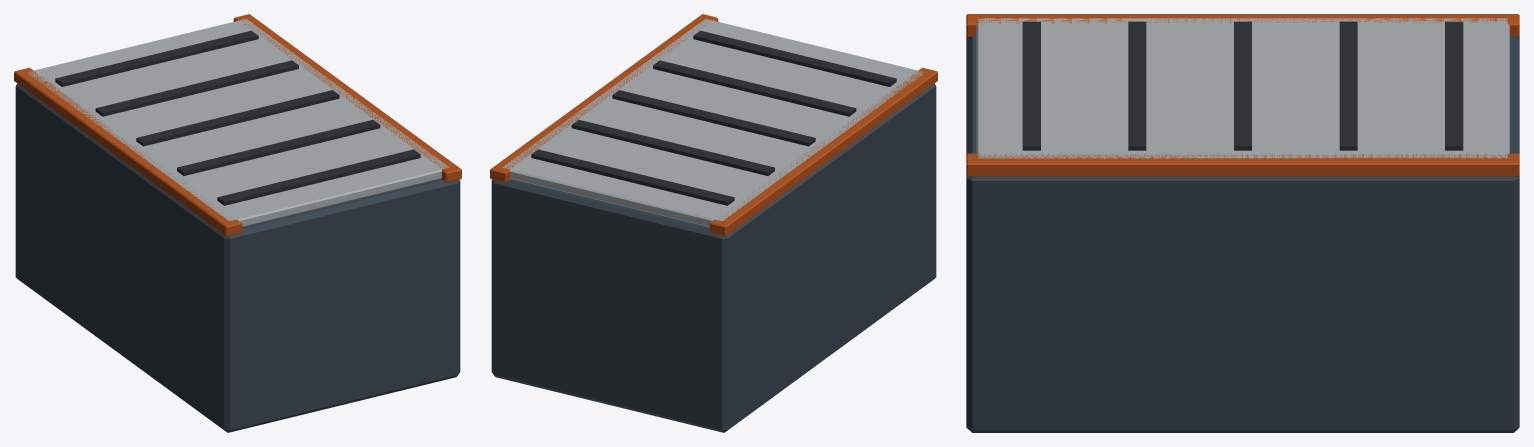
File: SC_STEP.glb
3 renders of one model, left to right at view 1: azimuth 30°, elevation 25°; view 2: azimuth 150°, elevation 25°; view 3: azimuth 270°, elevation 25°, orthographic. The views are drawn at different scales.
Parts seen in each view (by area): view 1: SC_STEP; view 2: SC_STEP; view 3: SC_STEP.
Boxes of the visible parts, x1=… form: SC_STEP: x1=14, y1=14, x2=461, y2=432; SC_STEP: x1=490, y1=14, x2=937, y2=432; SC_STEP: x1=966, y1=14, x2=1519, y2=432.
Bounding box in the file's own units: 0.707 × 0.607 × 1.1.
